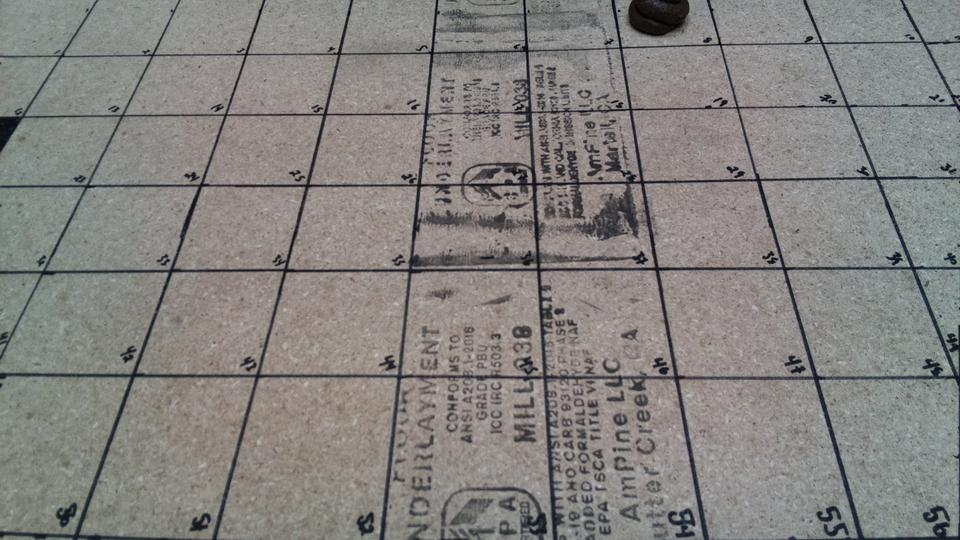poop: (626, 1, 690, 38)
